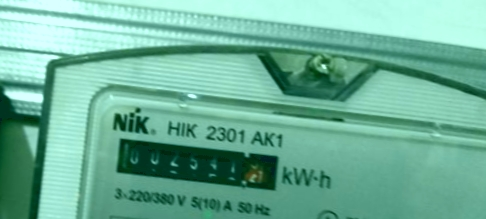0: (146, 143, 161, 166), (125, 143, 140, 165)
1: (225, 154, 238, 175)
2: (166, 147, 180, 168)
4: (206, 151, 220, 173)
5: (185, 148, 199, 171)
6: (246, 168, 258, 185)
screen: (103, 125, 290, 201)
